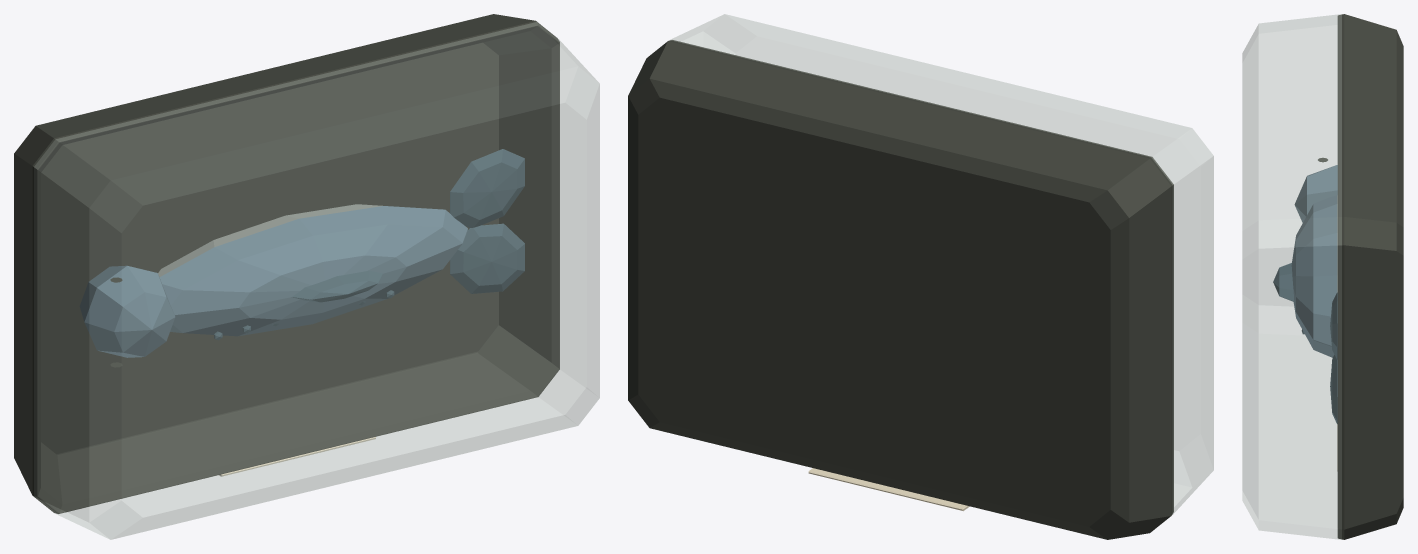
Rendered from trout.glb.
3 views of the same model, side by side, from view 1: azimuth 30°, elevation 25°; view 2: azimuth 150°, elevation 25°; view 3: azimuth 270°, elevation 25° (orthographic). The views are drawn at different scales.
Parts seen in each view (by area): view 1: trout; view 2: trout; view 3: trout.
Part boxes in pixels (left/top/right/bottom): trout: left=14, top=14, right=599, bottom=539; trout: left=628, top=14, right=1213, bottom=539; trout: left=1242, top=14, right=1403, bottom=539.
Size of the model in its own units: 0.22 by 0.152 by 0.068.
